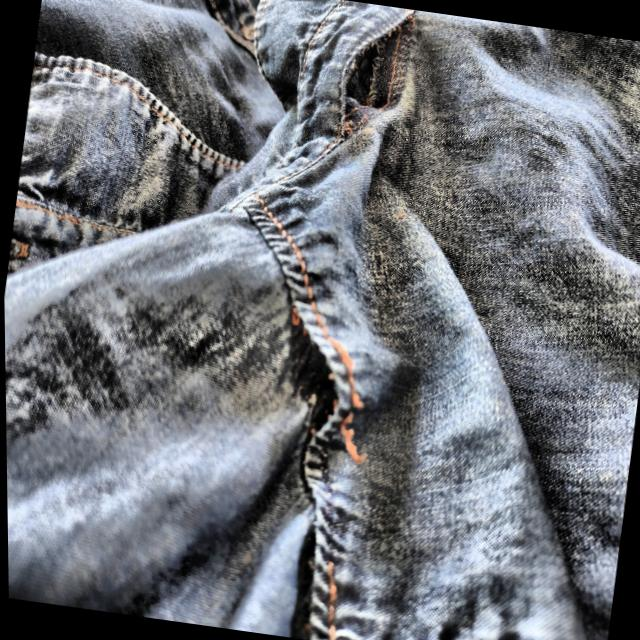seam: (262, 303, 358, 477), (316, 1, 401, 158)
